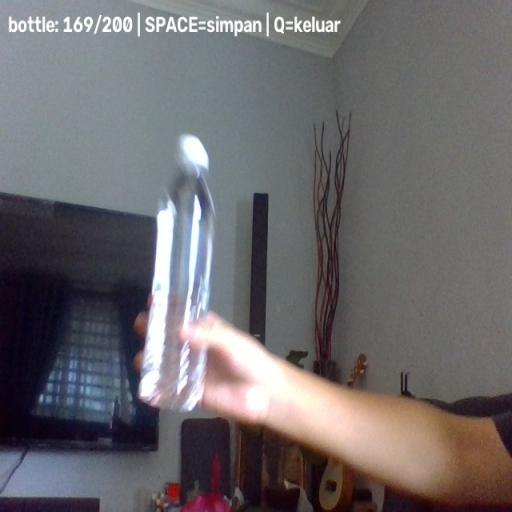Bottle: (138, 133, 215, 412)
